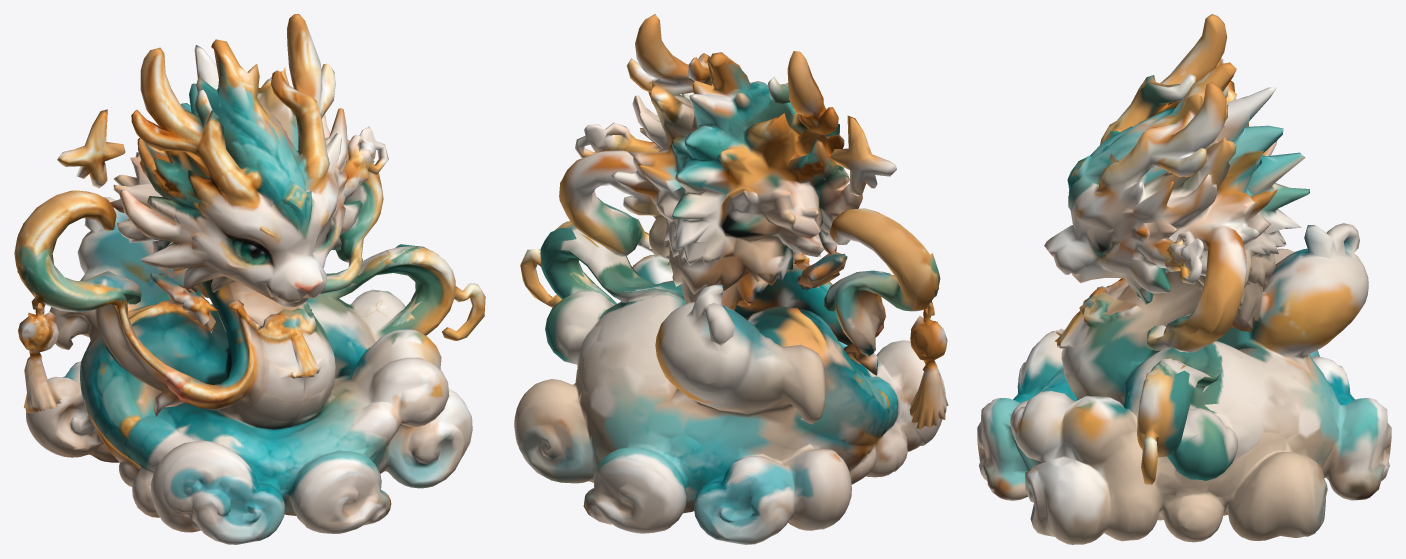
File: original.glb
The picture shows the model from 3 angles, left to right: view 1: azimuth 30°, elevation 25°; view 2: azimuth 150°, elevation 25°; view 3: azimuth 270°, elevation 25°; orthographic projection. The views are drawn at different scales.
Visible parts, largest first — view 1: Body; view 2: Body; view 3: Body.
Part boxes in pixels (x1,y1,x2,y2): Body: (14, 14, 485, 544); Body: (514, 14, 948, 544); Body: (977, 14, 1391, 544).
Size of the model in its own units: 0.9943 by 0.9337 by 0.8125.
1 material, 1 textured.
